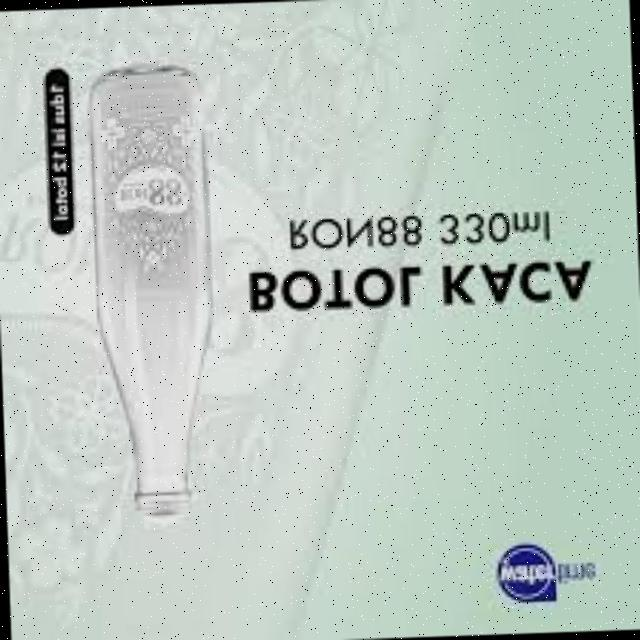bottle: (93, 61, 226, 529)
